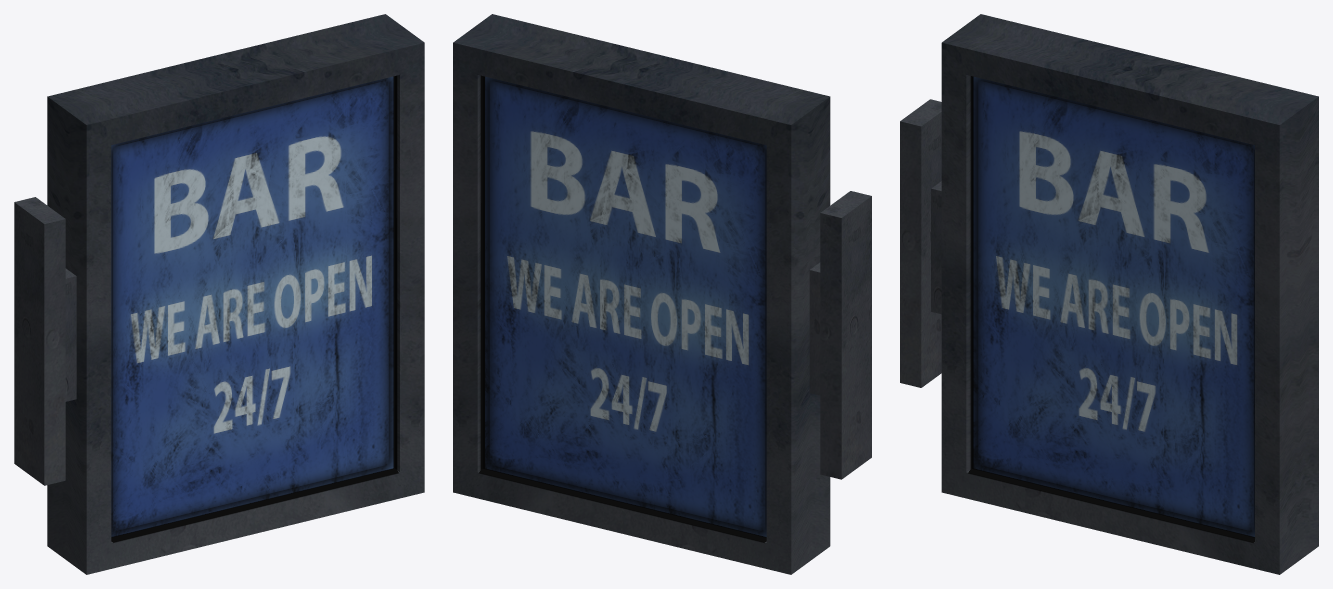
The model's file is Neon_Sign_D.FBX.
3 renders of one model, left to right at view 1: azimuth 30°, elevation 25°; view 2: azimuth 150°, elevation 25°; view 3: azimuth 330°, elevation 25°, orthographic.
Visible parts, largest first — view 1: Sign_D, Sign_WallMounting; view 2: Sign_D, Sign_WallMounting; view 3: Sign_D, Sign_WallMounting.
Boxes of the visible parts, box(x1,y1,x2,y2) form: Sign_D: box(47, 14, 424, 574); Sign_WallMounting: box(14, 197, 76, 485); Sign_D: box(453, 14, 830, 574); Sign_WallMounting: box(809, 191, 871, 479); Sign_D: box(941, 14, 1318, 574); Sign_WallMounting: box(900, 99, 941, 387).
Size of the model in its own units: 65.72 by 74.34 by 11.73.
